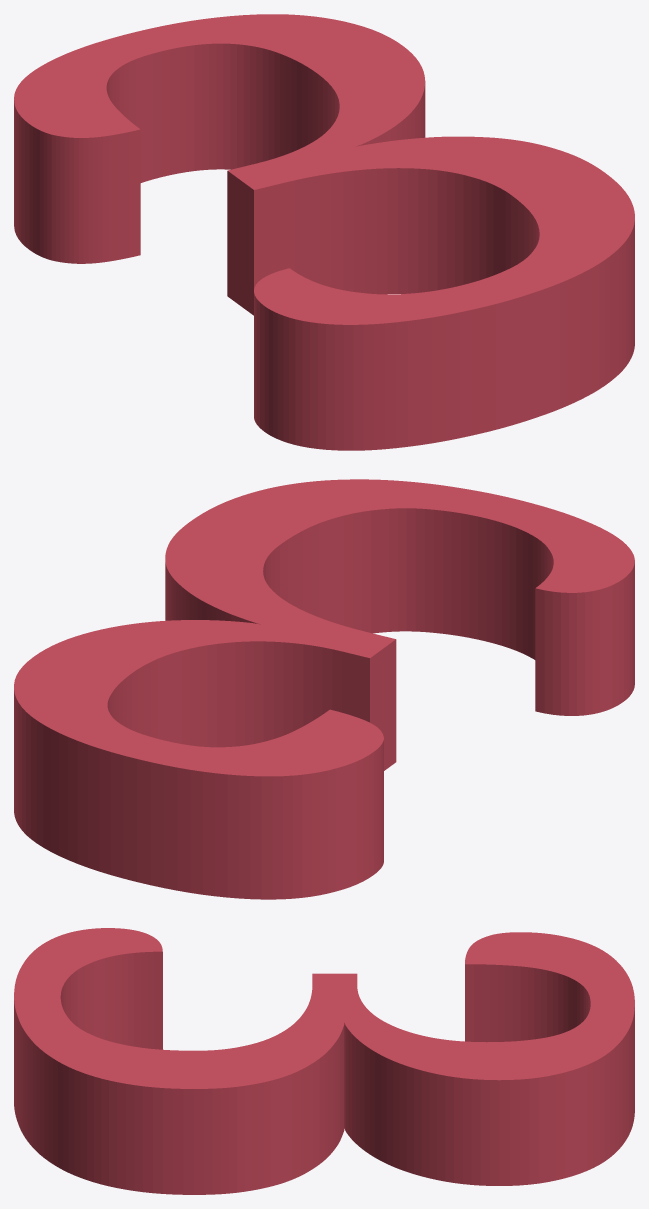
Rendered from number3.glb.
The picture shows the model from 3 angles, top to bottom: view 1: azimuth 30°, elevation 25°; view 2: azimuth 150°, elevation 25°; view 3: azimuth 270°, elevation 25°; orthographic projection. The views are drawn at different scales.
Visible parts, largest first — view 1: Mesh_Mesh_head_geo.001_lambert2SG.001; view 2: Mesh_Mesh_head_geo.001_lambert2SG.001; view 3: Mesh_Mesh_head_geo.001_lambert2SG.001.
Part boxes in pixels (x1,y1,x2,y2): Mesh_Mesh_head_geo.001_lambert2SG.001: (14,14,634,450); Mesh_Mesh_head_geo.001_lambert2SG.001: (14,479,634,899); Mesh_Mesh_head_geo.001_lambert2SG.001: (14,928,634,1194).
Bounding box in the file's own units: 73.35 × 22.5 × 120.
